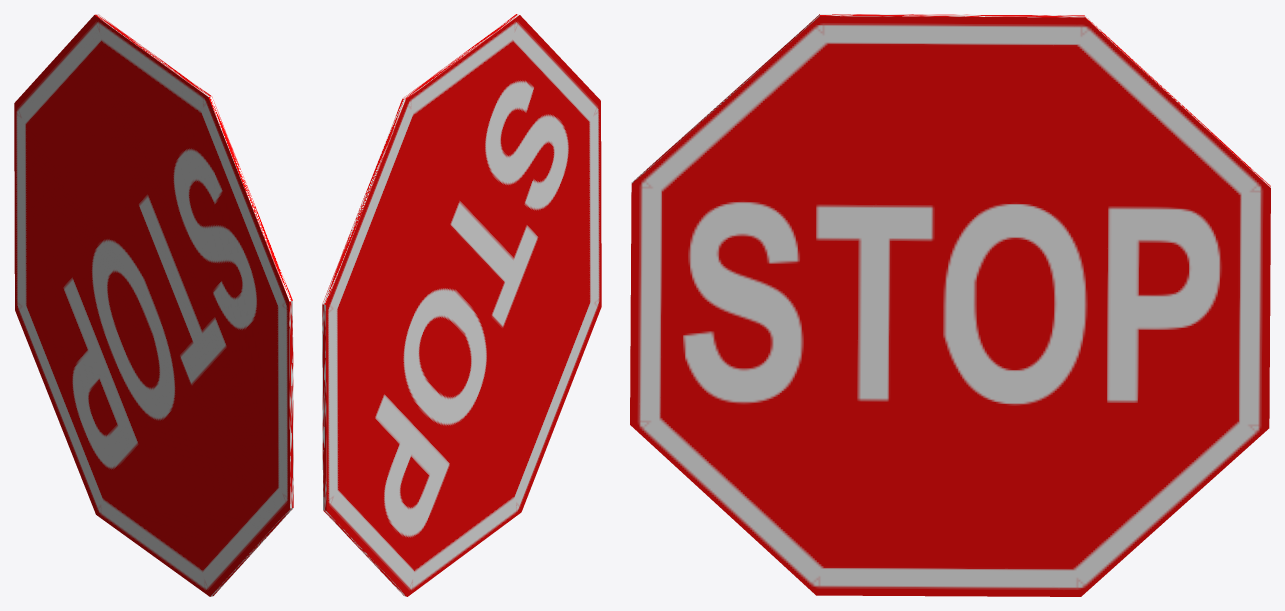
The model's file is stop_1.obj.
3 views of the same model, side by side, from view 1: azimuth 30°, elevation 25°; view 2: azimuth 150°, elevation 25°; view 3: azimuth 270°, elevation 25° (orthographic). The views are drawn at different scales.
Size of the model in its own units: 0.0141 by 1.85 by 1.85.
